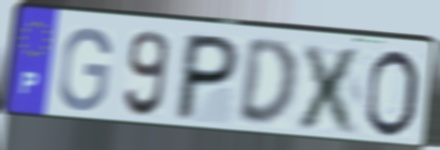9: (123, 28, 173, 120)
D: (235, 37, 301, 131)
G: (55, 24, 114, 114)
O: (362, 47, 421, 140)
P: (170, 30, 244, 123)
X: (293, 40, 368, 137)
